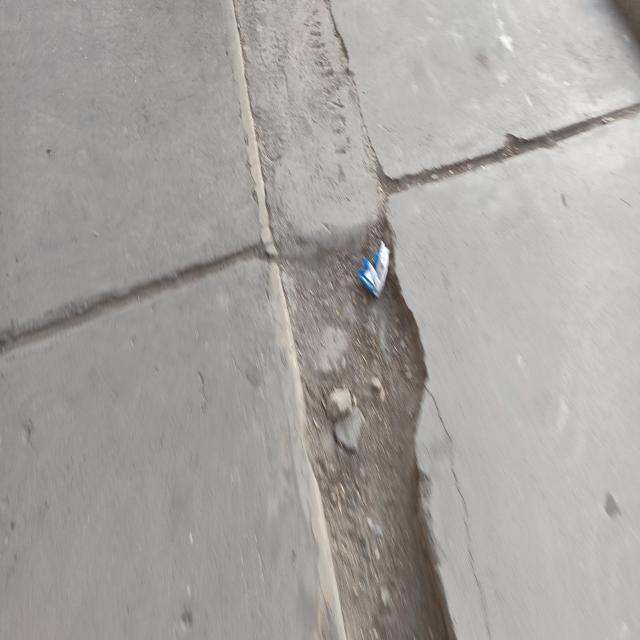hole: (269, 211, 454, 640)
